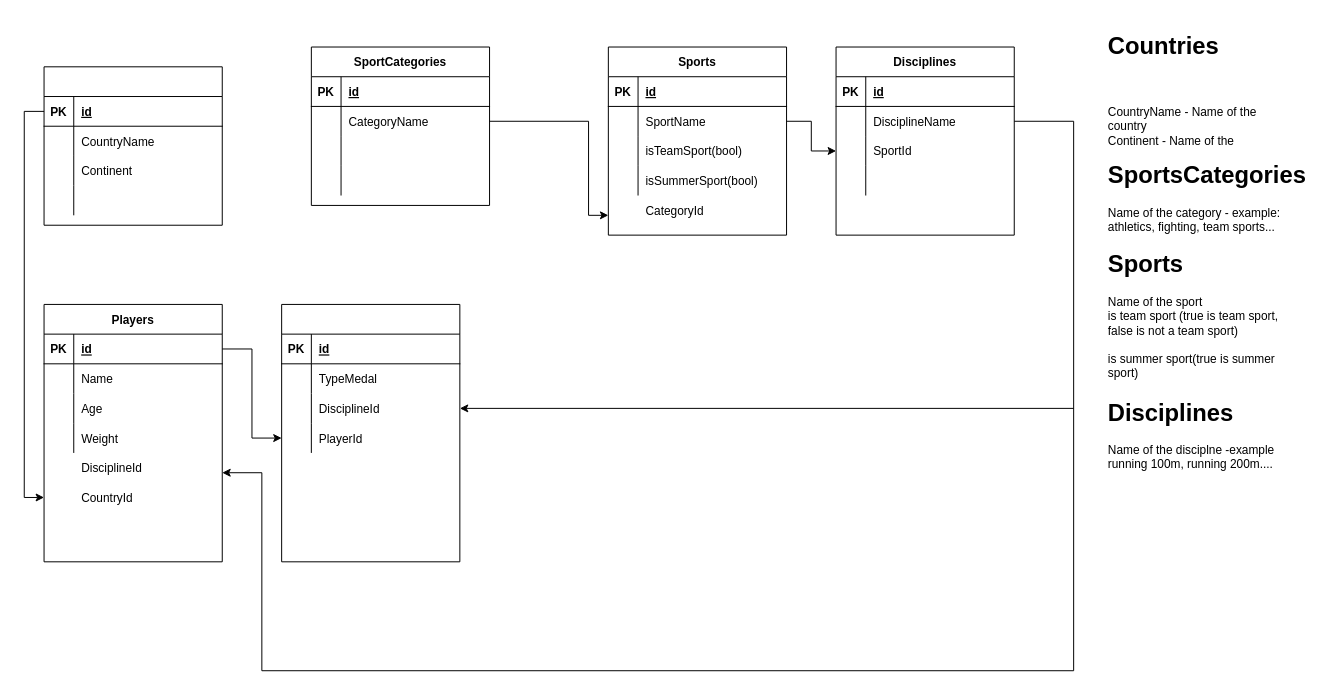
This 1329x696 diagram has some shape labels left out. Here are the shapes that lost their labels. From the top down, the box of each, then its label:
(43, 66, 222, 225): Countries
(281, 303, 460, 562): Medals
